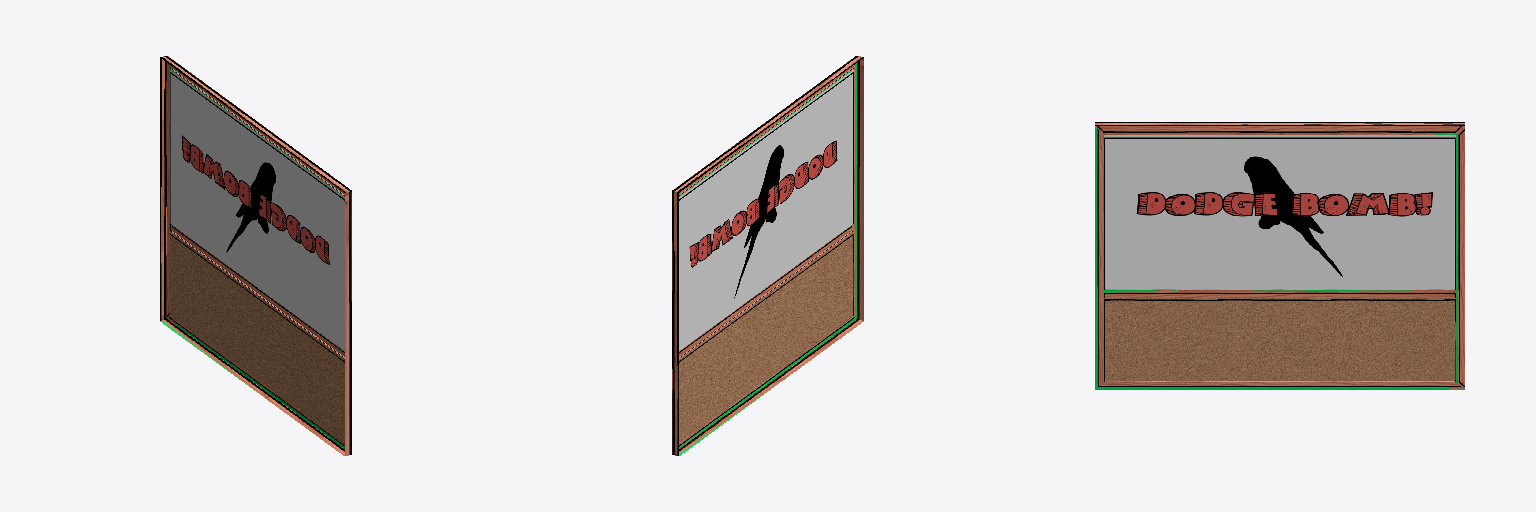
3 renders of one model, left to right at view 1: azimuth 30°, elevation 25°; view 2: azimuth 150°, elevation 25°; view 3: azimuth 270°, elevation 25°, orthographic.
Visible parts, largest first — view 1: polySurface7 polySurface5 polySurface2 pCylinder2; view 2: polySurface7 polySurface5 polySurface2 pCylinder2; view 3: polySurface7 polySurface5 polySurface2 pCylinder2.
Boxes of the visible parts, <box> form: polySurface7 polySurface5 polySurface2 pCylinder2: <box>160,56,351,455</box>; polySurface7 polySurface5 polySurface2 pCylinder2: <box>672,56,863,455</box>; polySurface7 polySurface5 polySurface2 pCylinder2: <box>1095,122,1464,389</box>.
Bounding box in the file's own units: 0.048 × 1.57 × 2.
Materials: 1 (1 with a texture image).